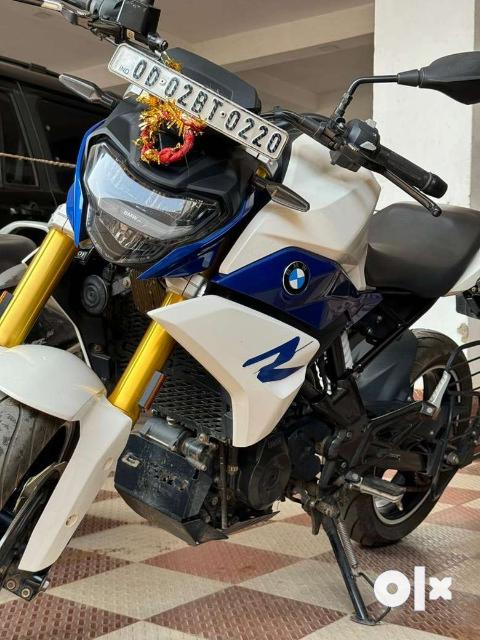Indian_Number_Plate: (109, 45, 289, 159)
